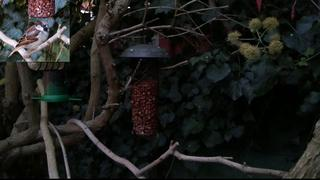sparrow: (7, 20, 50, 58)
